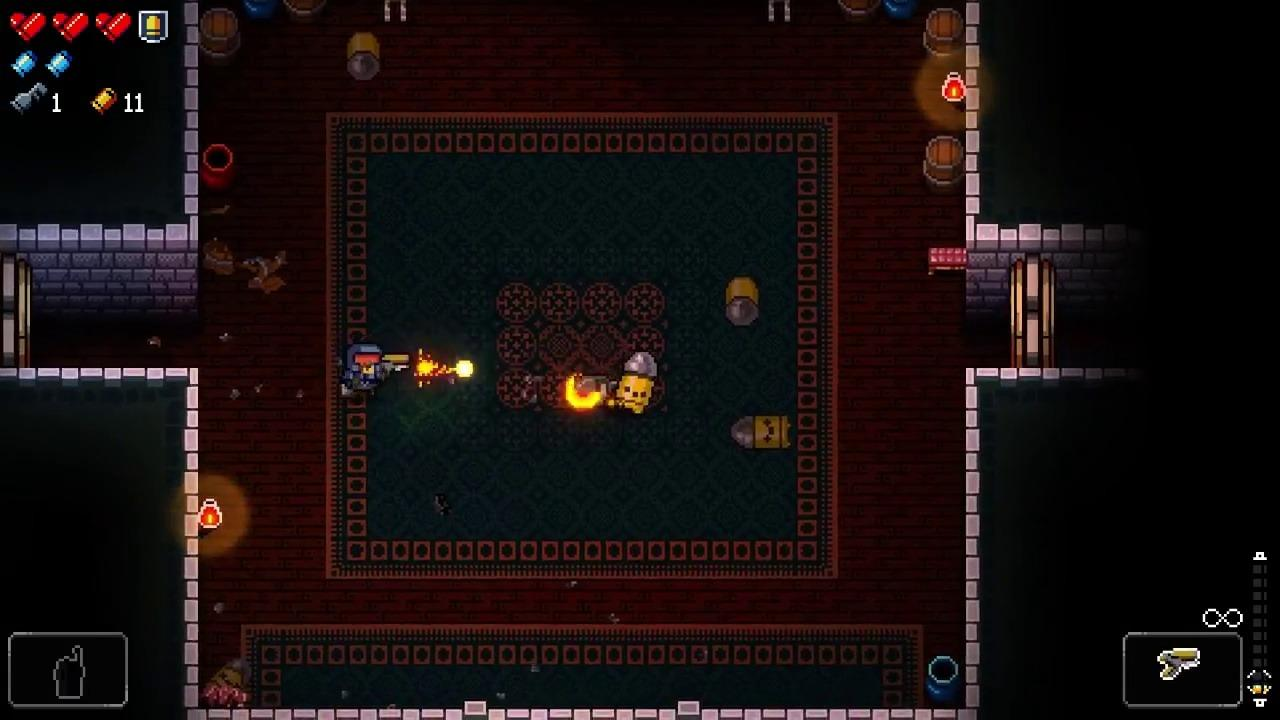bullet_kin: (617, 350, 656, 414)
dead_bullet_kin: (732, 416, 792, 449), (205, 656, 252, 698), (726, 276, 758, 327), (348, 32, 380, 83)
locked_door: (1009, 256, 1056, 368), (0, 258, 31, 368)
player: (347, 345, 383, 396)
